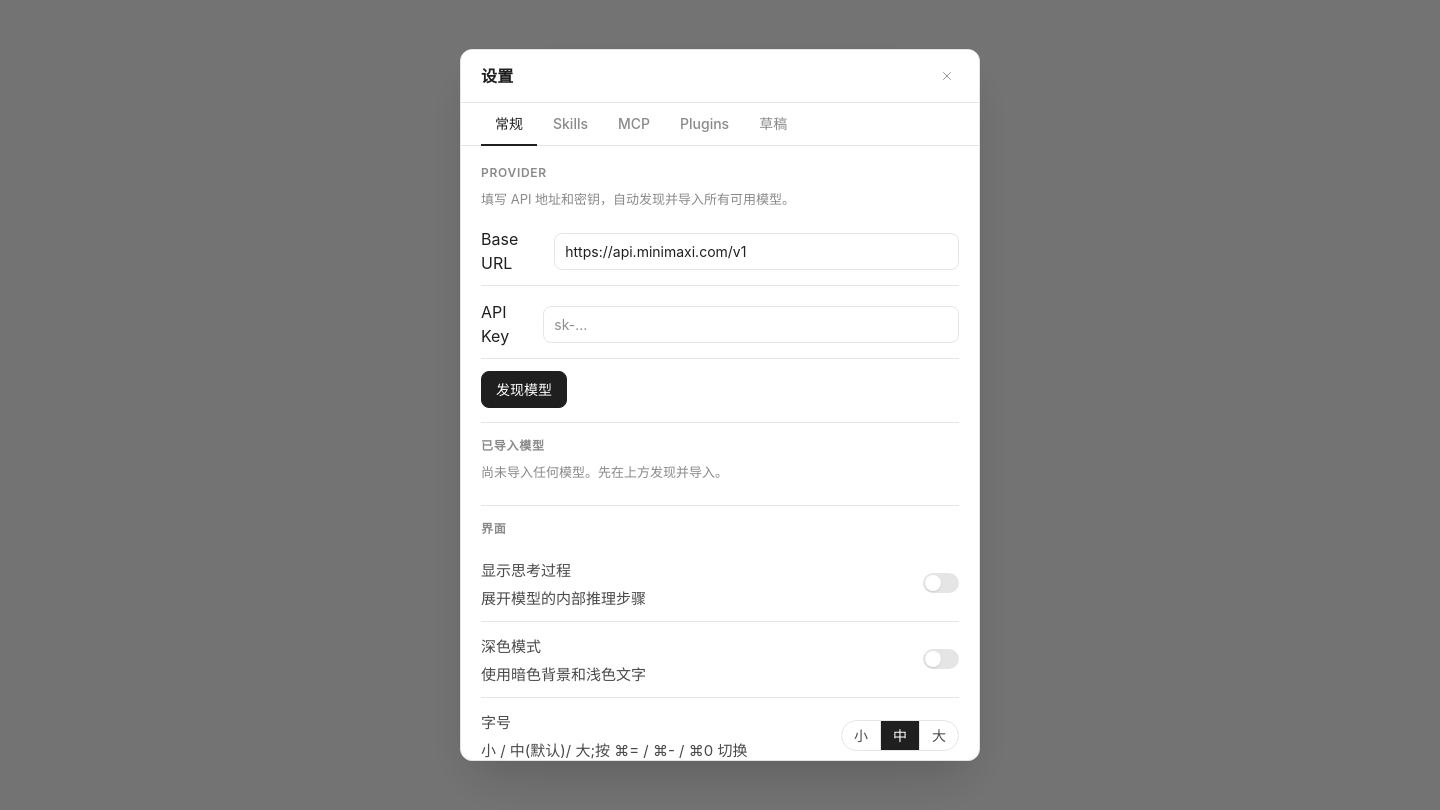
Test: PreferencesModal 草稿 tab › 空状态显示"暂无草稿"
Click the tab "草稿": click(773, 124) x1=745 y1=103 x2=801 y2=146
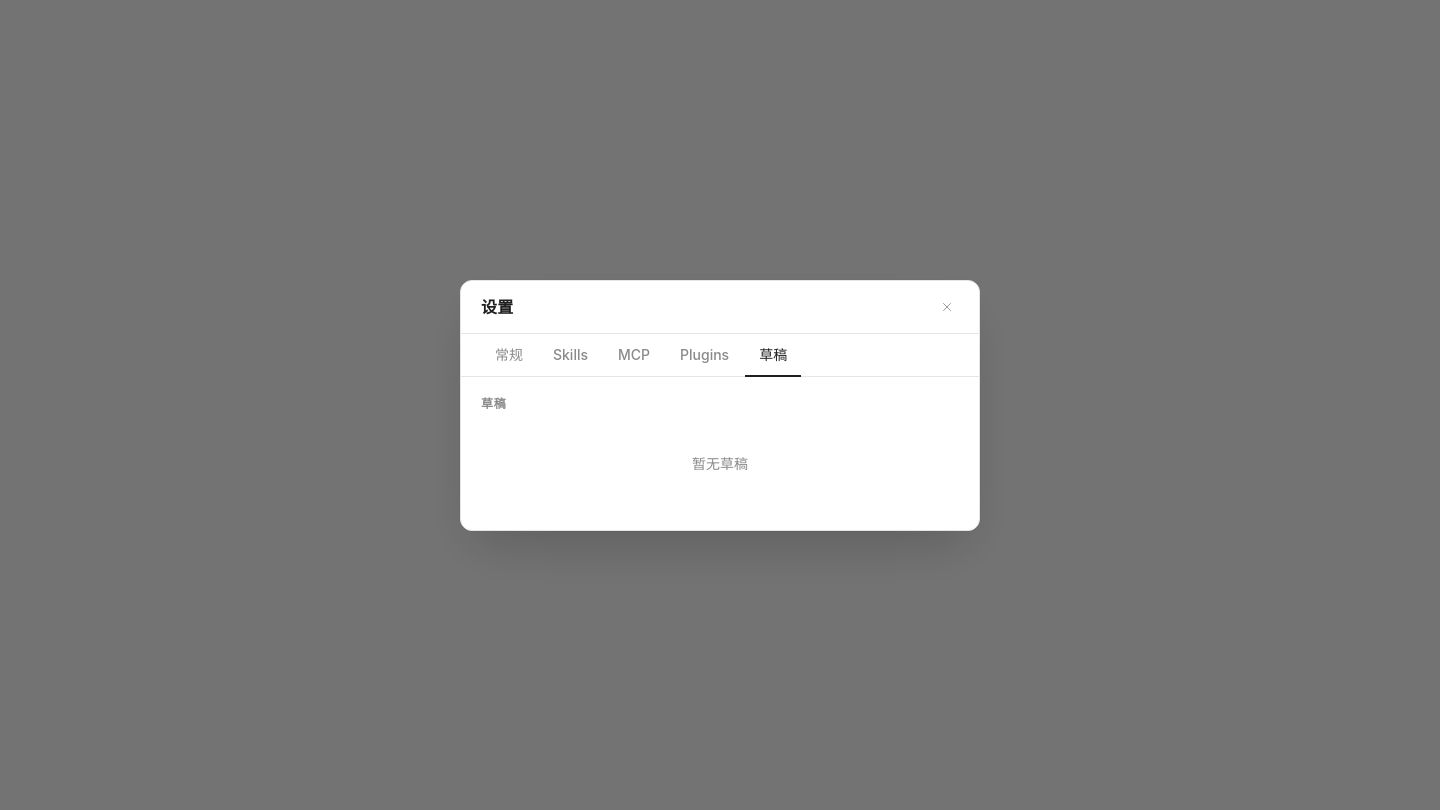
Check: the text "暂无草稿" is shown, box x1=692 y1=454 x2=748 y2=472
